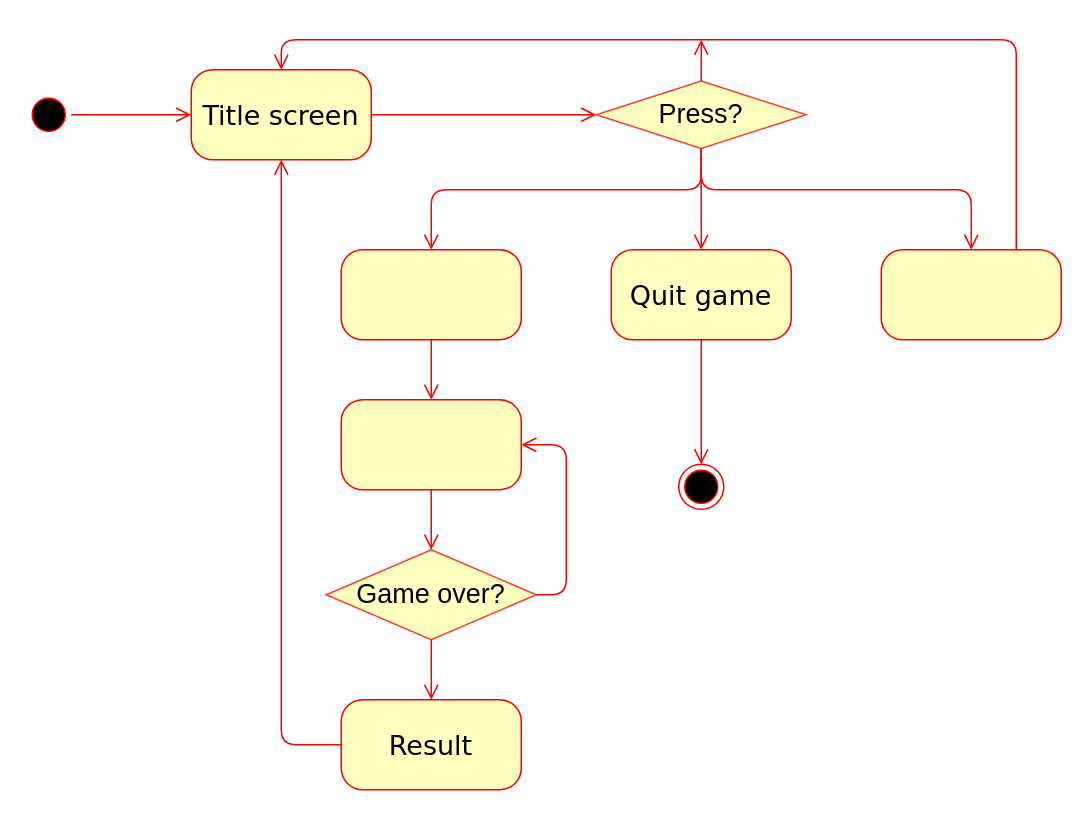
The diagram is 1088 pixels wide and 816 high, and some of its shapes have lost their labels. The box of each missing label's shape, as (x1, y1, x2, y2) in pixels:
Gamin': (340, 398, 521, 490)
Help screen: (880, 248, 1061, 340)
Start the game: (340, 248, 521, 340)
